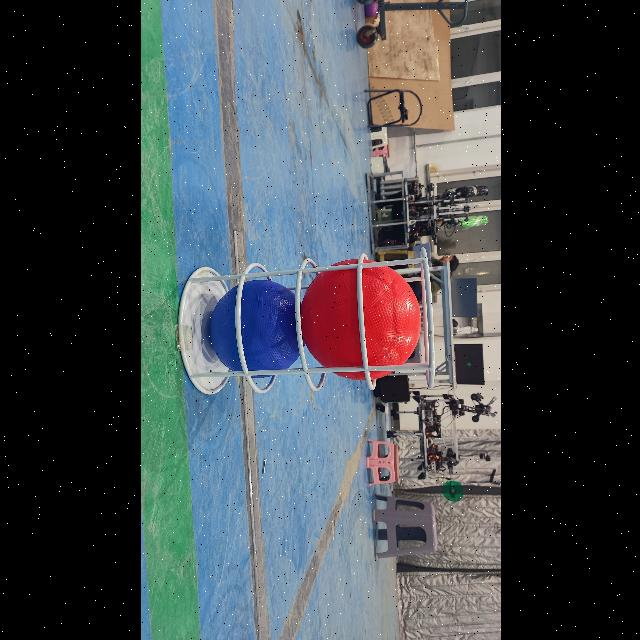B: (208, 280, 302, 378)
R: (302, 258, 421, 380)
S: (170, 243, 440, 402)
